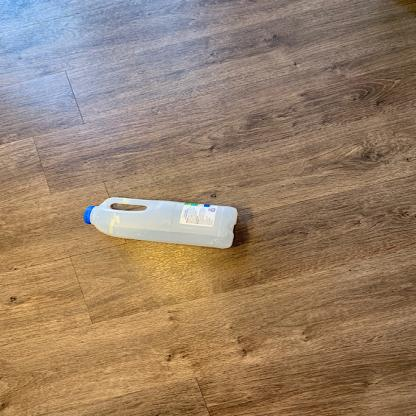trash: (77, 195, 241, 250)
